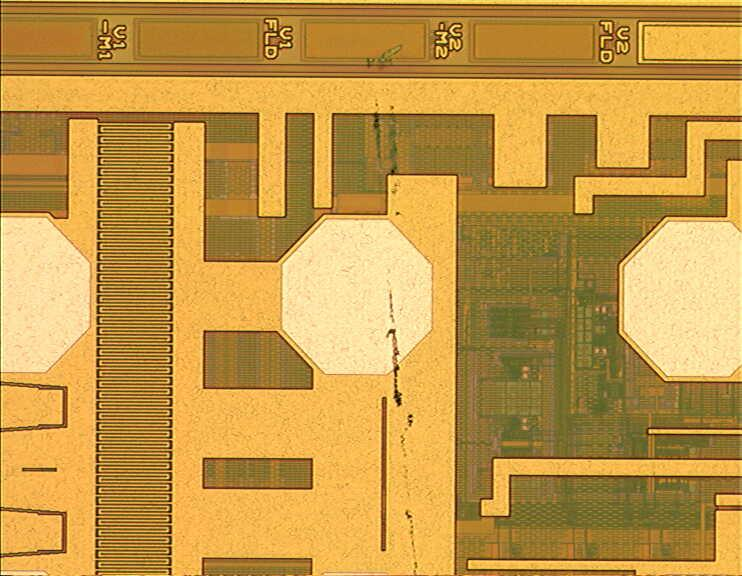SCRATCH: (360, 40, 444, 575)
